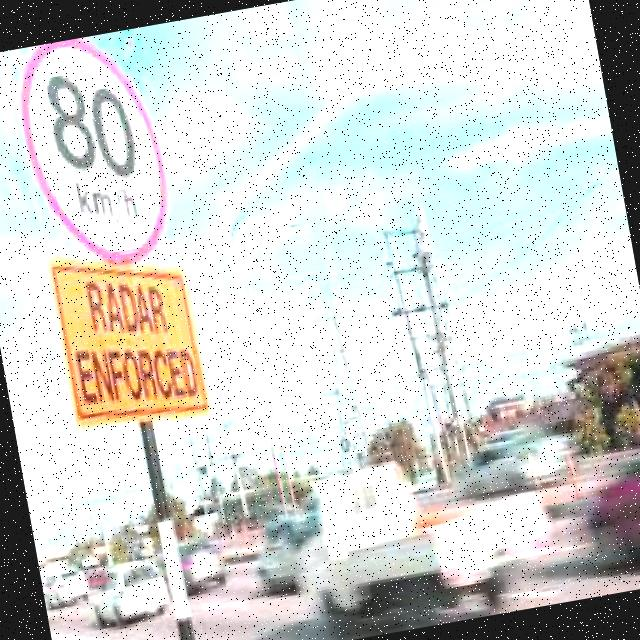Ograniczenie predkosci do 80: (8, 31, 178, 278)
